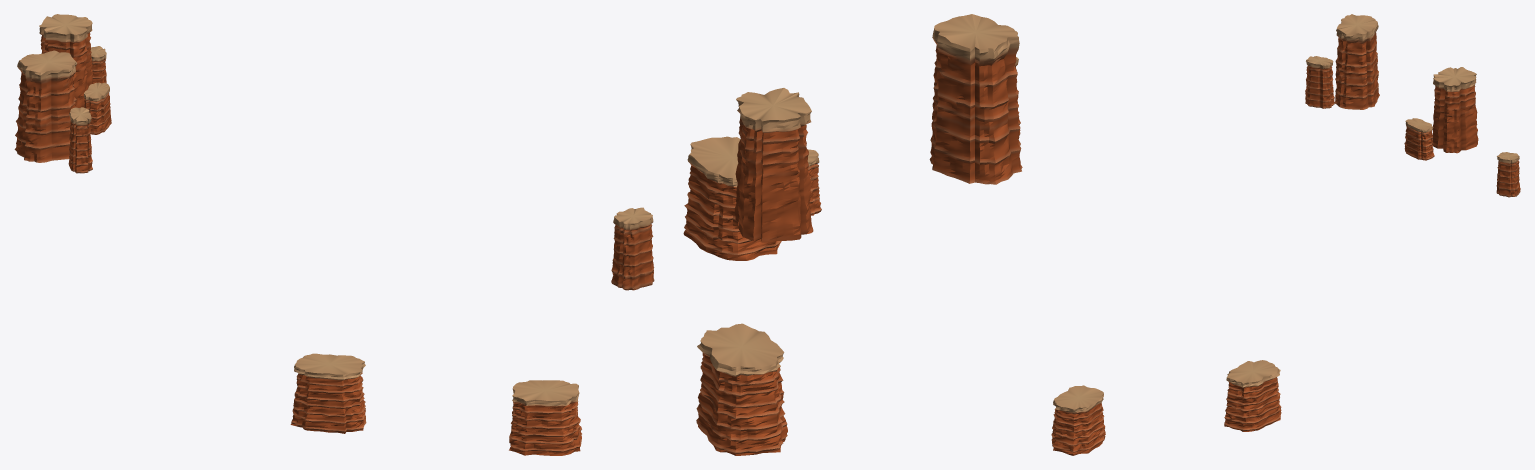
File: terrain-084.glb
3 renders of one model, left to right at view 1: azimuth 30°, elevation 25°; view 2: azimuth 150°, elevation 25°; view 3: azimuth 270°, elevation 25°, orthographic. The views are drawn at different scales.
Visible parts, largest first — view 1: terrain-084; view 2: terrain-084; view 3: terrain-084.
Boxes of the visible parts, left/top/right/bottom form: terrain-084: left=14, top=14, right=581, bottom=455; terrain-084: left=611, top=14, right=1022, bottom=455; terrain-084: left=1051, top=14, right=1520, bottom=455.
Bounding box in the file's own units: 232 × 209 × 289.
